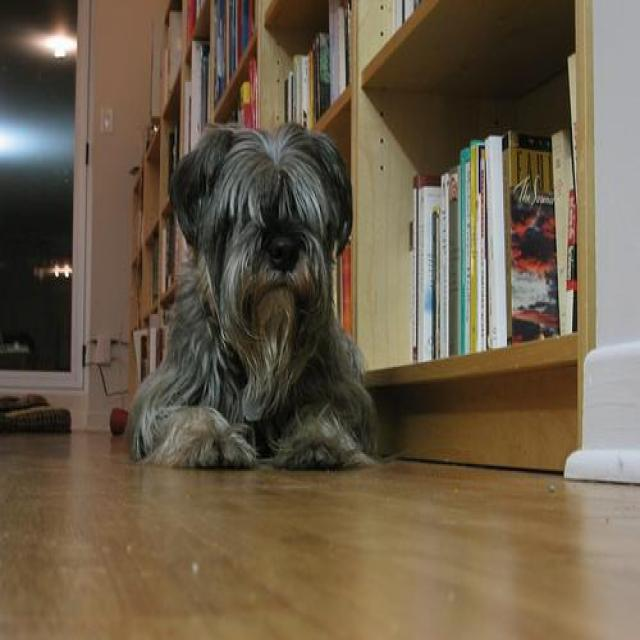standard_schnauzer: (120, 113, 384, 478)
